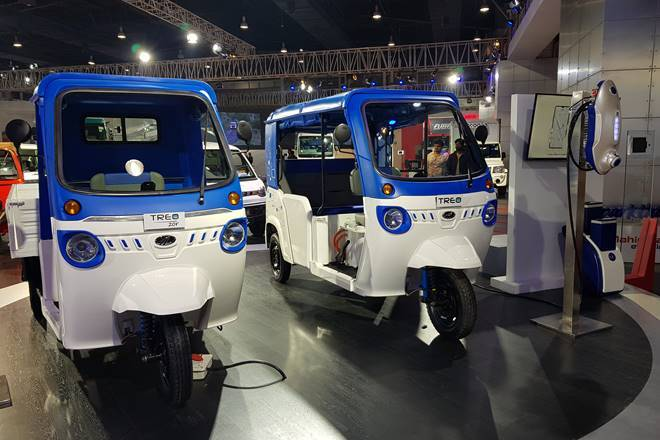rickshaw: (15, 67, 255, 407), (262, 96, 509, 338)
